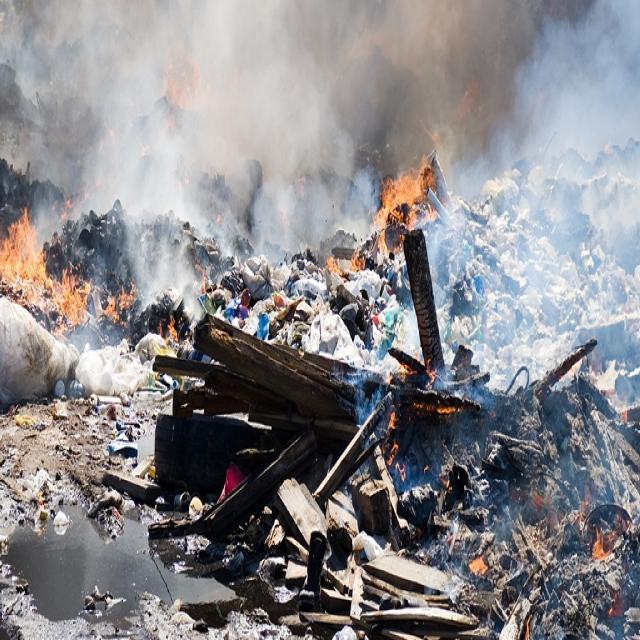Fire: (0, 199, 97, 327), (372, 126, 442, 244)
Smoke: (0, 0, 640, 350)
